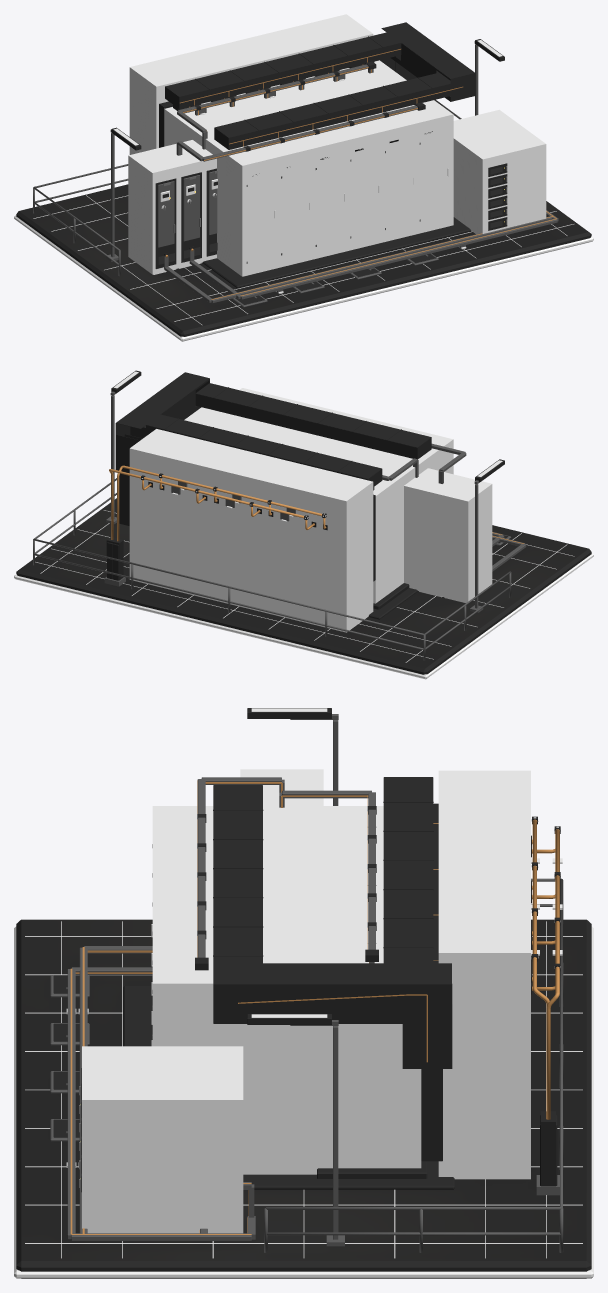
Rendered from facility.glb.
The picture shows the model from 3 angles, top to bottom: view 1: azimuth 30°, elevation 25°; view 2: azimuth 150°, elevation 25°; view 3: azimuth 270°, elevation 25°; orthographic projection. The views are drawn at different scales.
Parts seen in each view (by area): view 1: GN_PICK_WORKLOADS, GN_PLATFORM_Platform, GN_PICK_STORAGE, GN_AIR_SECTION_COVERS_Graphite, GN_PICK_COOLING, GN_COOLING_Graphite, GN_PICK_POWER, GN_POWER_Steel, GN_PLATFORM_Dark, GN_PLATFORM_Graphite, GN_STORAGE_Steel, GN_PLATFORM_Steel (+7 smaller); view 2: GN_PICK_COOLING, GN_PLATFORM_Platform, GN_PICK_POWER, GN_PICK_WORKLOADS, GN_AIR_SECTION_COVERS_Graphite, GN_COOLING_Graphite, GN_PLATFORM_Steel, GN_PLATFORM_Dark, GN_ACCENT_COOLING_Copper, GN_PLATFORM_Graphite, GN_POWER_Steel, GN_COOLING_Steel (+1 smaller); view 3: GN_PLATFORM_Platform, GN_PICK_WORKLOADS, GN_PICK_COOLING, GN_PICK_STORAGE, GN_AIR_SECTION_COVERS_Graphite, GN_COOLING_Graphite, GN_PLATFORM_Dark, GN_PLATFORM_Graphite, GN_PLATFORM_Steel, GN_STORAGE_Steel, GN_POWER_Steel, GN_ACCENT_COOLING_Copper (+2 smaller).
Part boxes in pixels (x1=…): GN_PICK_WORKLOADS: x1=164, y1=60, x2=453, y2=276; GN_PLATFORM_Platform: x1=16, y1=184, x2=591, y2=336; GN_PICK_STORAGE: x1=453, y1=109, x2=546, y2=234; GN_AIR_SECTION_COVERS_Graphite: x1=164, y1=22, x2=474, y2=137; GN_PICK_COOLING: x1=129, y1=14, x2=373, y2=154; GN_COOLING_Graphite: x1=159, y1=43, x2=475, y2=149; GN_PICK_POWER: x1=128, y1=140, x2=216, y2=274; GN_POWER_Steel: x1=158, y1=64, x2=417, y2=247; GN_PLATFORM_Dark: x1=14, y1=40, x2=593, y2=341; GN_PLATFORM_Graphite: x1=111, y1=39, x2=504, y2=304; GN_STORAGE_Steel: x1=164, y1=210, x2=558, y2=303; GN_PLATFORM_Steel: x1=33, y1=41, x2=478, y2=307; GN_PICK_COOLING: x1=129, y1=429, x2=373, y2=632; GN_PLATFORM_Platform: x1=16, y1=498, x2=591, y2=674; GN_PICK_POWER: x1=404, y1=468, x2=492, y2=602; GN_PICK_WORKLOADS: x1=195, y1=388, x2=453, y2=603; GN_AIR_SECTION_COVERS_Graphite: x1=116, y1=372, x2=431, y2=478; GN_COOLING_Graphite: x1=106, y1=378, x2=431, y2=581; GN_PLATFORM_Steel: x1=33, y1=391, x2=511, y2=660; GN_PLATFORM_Dark: x1=14, y1=371, x2=593, y2=679; GN_ACCENT_COOLING_Copper: x1=109, y1=465, x2=325, y2=541; GN_PLATFORM_Graphite: x1=111, y1=370, x2=508, y2=619; GN_POWER_Steel: x1=382, y1=443, x2=466, y2=483; GN_COOLING_Steel: x1=104, y1=481, x2=295, y2=586; GN_PLATFORM_Platform: x1=16, y1=919, x2=591, y2=1278; GN_PICK_WORKLOADS: x1=152, y1=806, x2=421, y2=1174; GN_PICK_COOLING: x1=438, y1=770, x2=530, y2=1179; GN_PICK_STORAGE: x1=82, y1=1046, x2=243, y2=1233; GN_AIR_SECTION_COVERS_Graphite: x1=213, y1=777, x2=451, y2=1160; GN_COOLING_Graphite: x1=213, y1=777, x2=560, y2=1186; GN_PLATFORM_Dark: x1=14, y1=708, x2=593, y2=1278; GN_PLATFORM_Graphite: x1=53, y1=708, x2=454, y2=1189; GN_PLATFORM_Steel: x1=50, y1=714, x2=563, y2=1252; GN_STORAGE_Steel: x1=67, y1=946, x2=255, y2=1240; GN_POWER_Steel: x1=197, y1=777, x2=375, y2=957; GN_ACCENT_COOLING_Copper: x1=238, y1=820, x2=559, y2=1119.
Size of the model in its own units: 10.86 by 3.59 by 7.66.
Materials: 8 (8 with a texture image).
